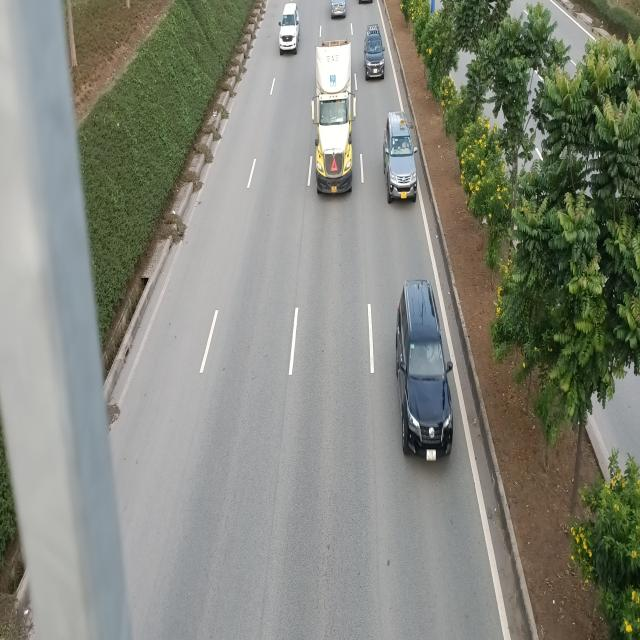car: (395, 279, 453, 458), (385, 114, 419, 203), (364, 23, 386, 79), (278, 2, 299, 52)
container: (314, 42, 359, 196)
